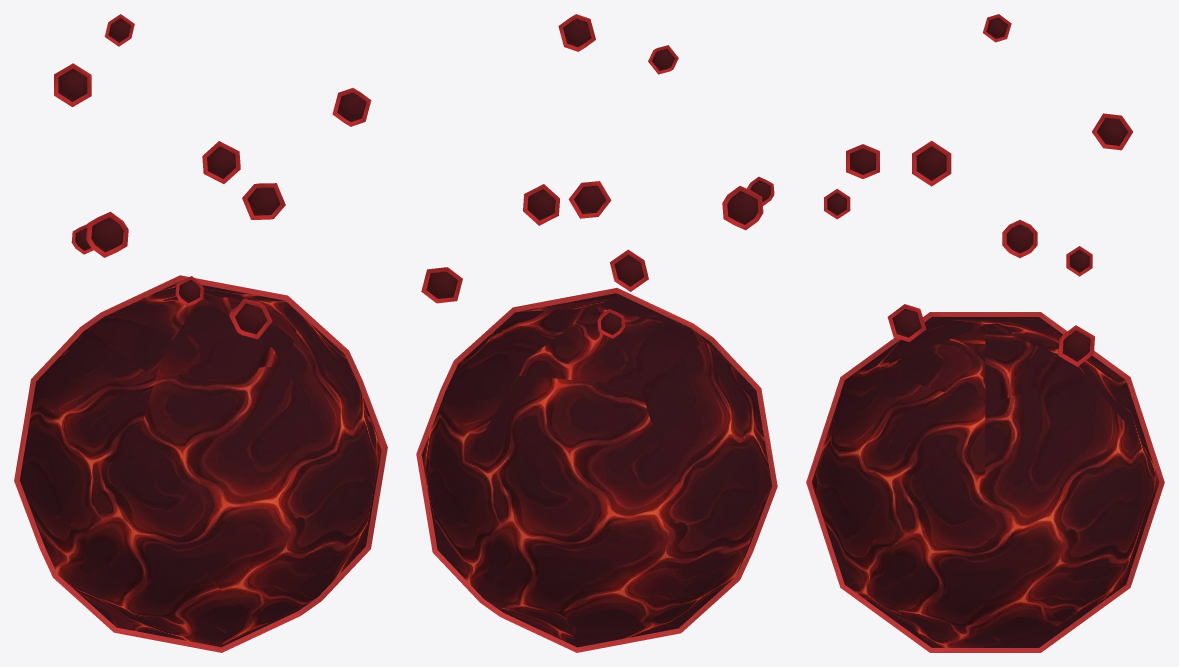
File: meteor.glb
The picture shows the model from 3 angles, left to right: view 1: azimuth 30°, elevation 25°; view 2: azimuth 150°, elevation 25°; view 3: azimuth 270°, elevation 25°; orthographic projection. The views are drawn at different scales.
Parts seen in each view (by area): view 1: Meteor1; view 2: Meteor1; view 3: Meteor1.
Boxes of the visible parts, x1,y1,x2,y2 form: Meteor1: (14,14,387,652); Meteor1: (416,14,777,652); Meteor1: (806,14,1164,652).
Size of the model in its own units: 1.92 by 3.69 by 2.01.
1 material, 1 textured.
